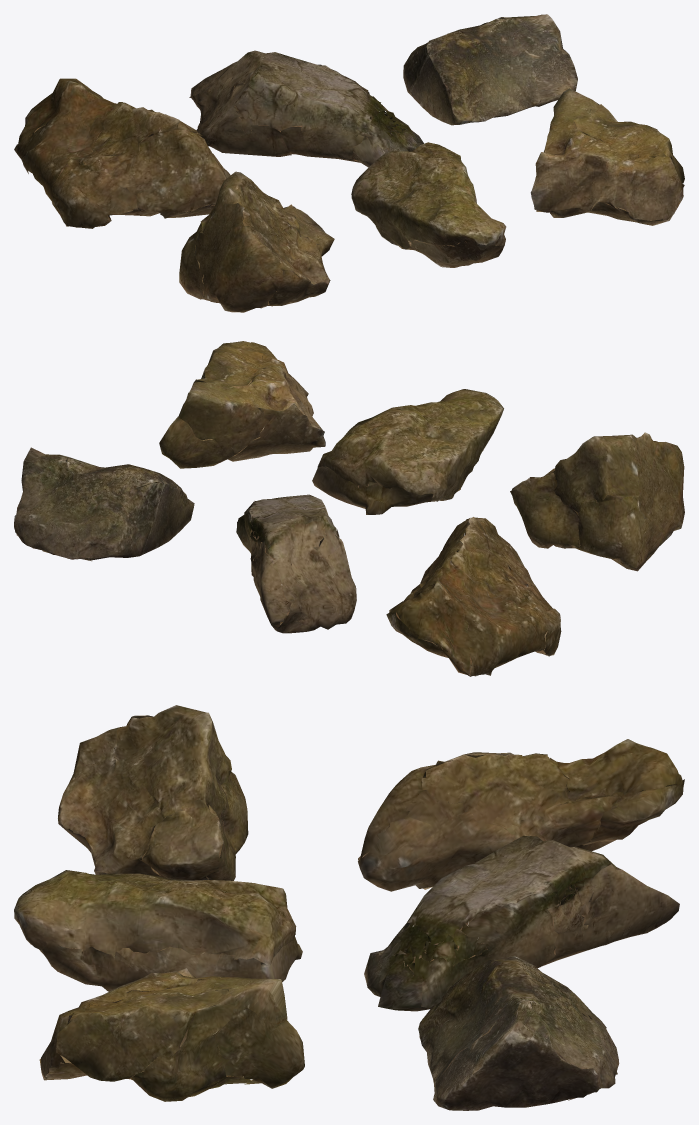
The model's file is ph-rock_moss_set_01.glb.
3 views of the same model, one above another, from view 1: azimuth 30°, elevation 25°; view 2: azimuth 150°, elevation 25°; view 3: azimuth 270°, elevation 25° (orthographic). The views are drawn at different scales.
Visible parts, largest first — view 1: rock_moss_set_01; view 2: rock_moss_set_01; view 3: rock_moss_set_01.
Part boxes in pixels (x1=…): rock_moss_set_01: x1=14, y1=14, x2=684, y2=312; rock_moss_set_01: x1=14, y1=341, x2=684, y2=676; rock_moss_set_01: x1=14, y1=705, x2=684, y2=1110.
Bounding box in the file's own units: 7.98 × 1.77 × 6.95.
1 material, 1 textured.
